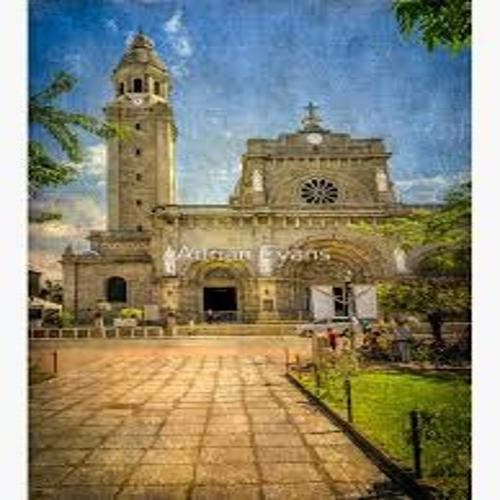Manila Cathedral Church: (48, 21, 437, 352)
